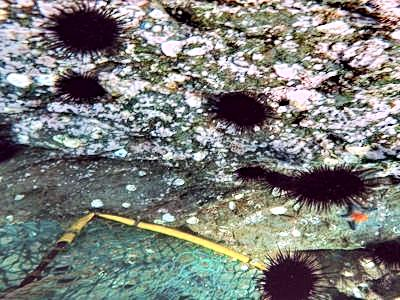urchin: (263, 248, 320, 296), (54, 10, 117, 53), (301, 169, 359, 204), (215, 92, 263, 126), (61, 72, 107, 99), (374, 240, 396, 265), (236, 167, 265, 181)
